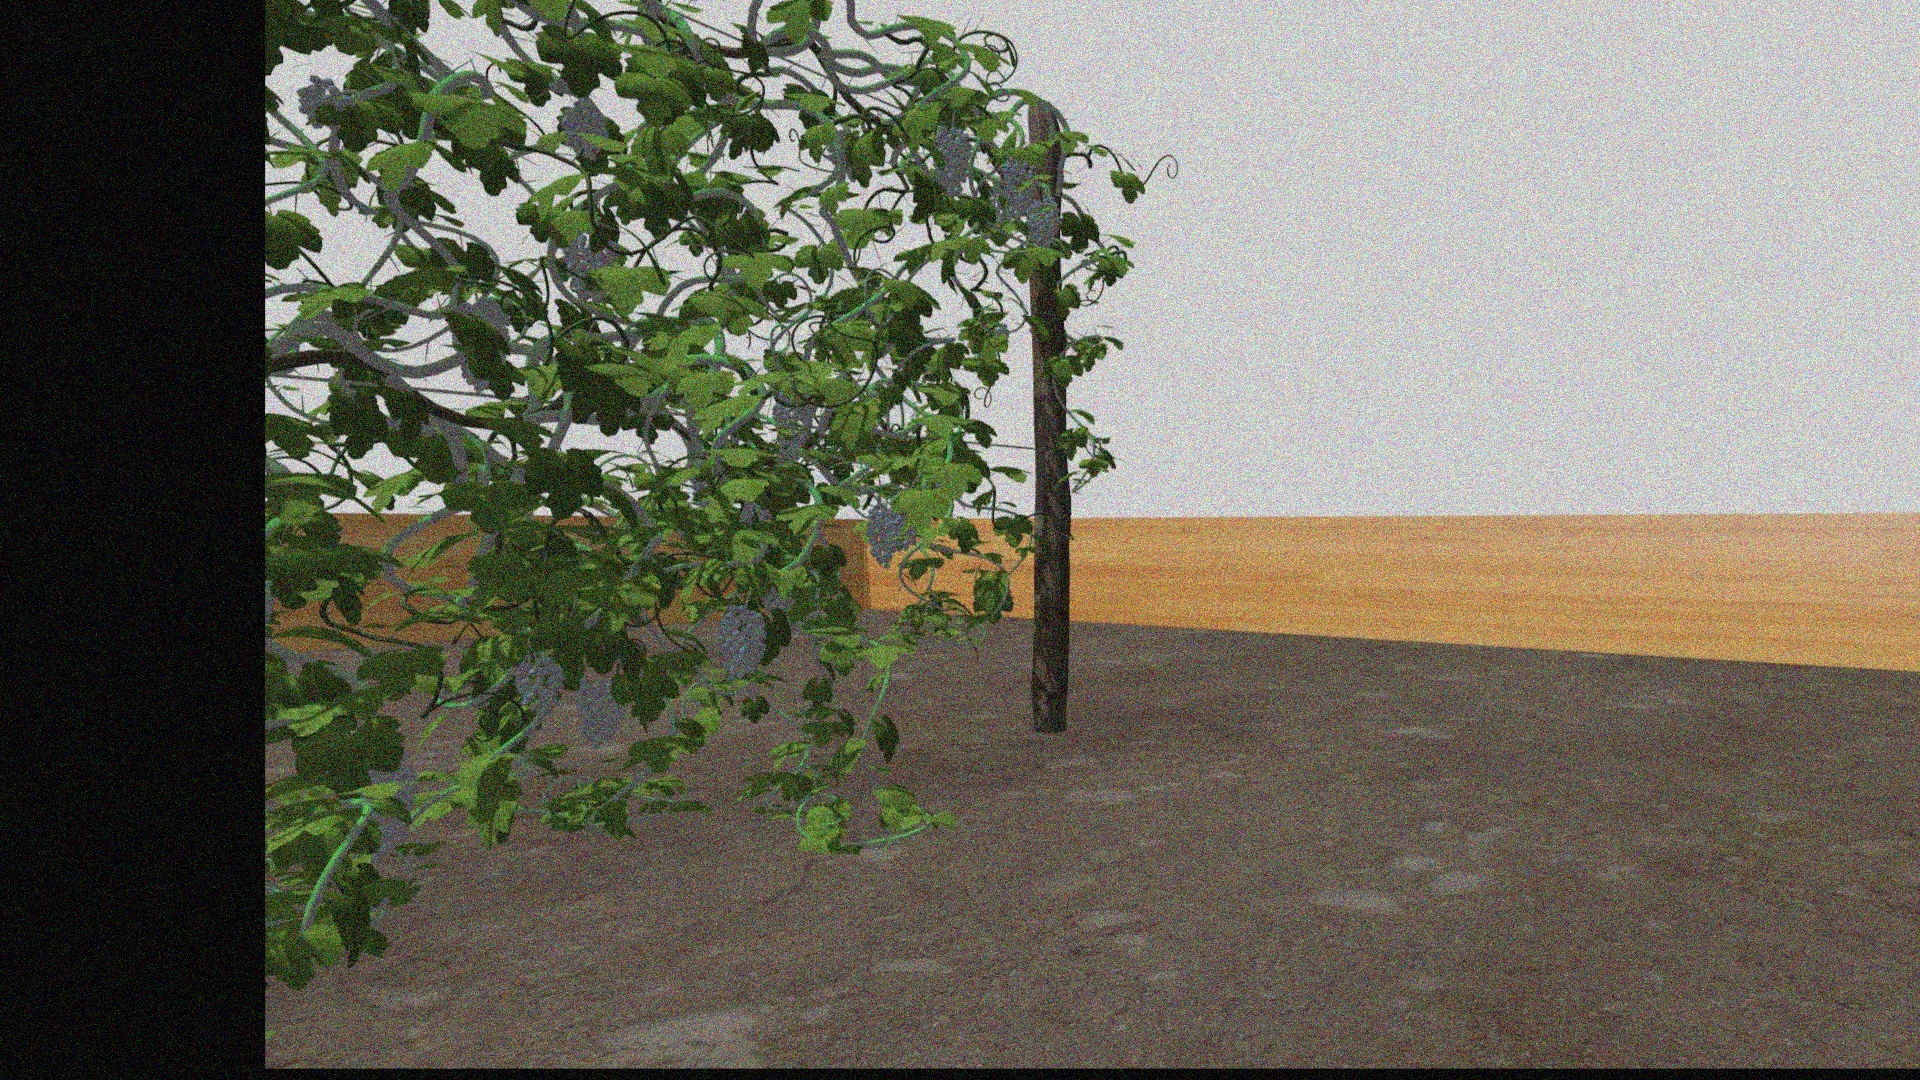grape: (364, 757, 418, 857), (715, 604, 766, 684), (572, 673, 624, 749), (513, 651, 568, 720), (560, 96, 615, 162), (295, 75, 344, 129), (934, 124, 971, 195), (771, 396, 816, 454), (862, 502, 897, 571), (1000, 153, 1035, 216), (1029, 196, 1062, 247)
